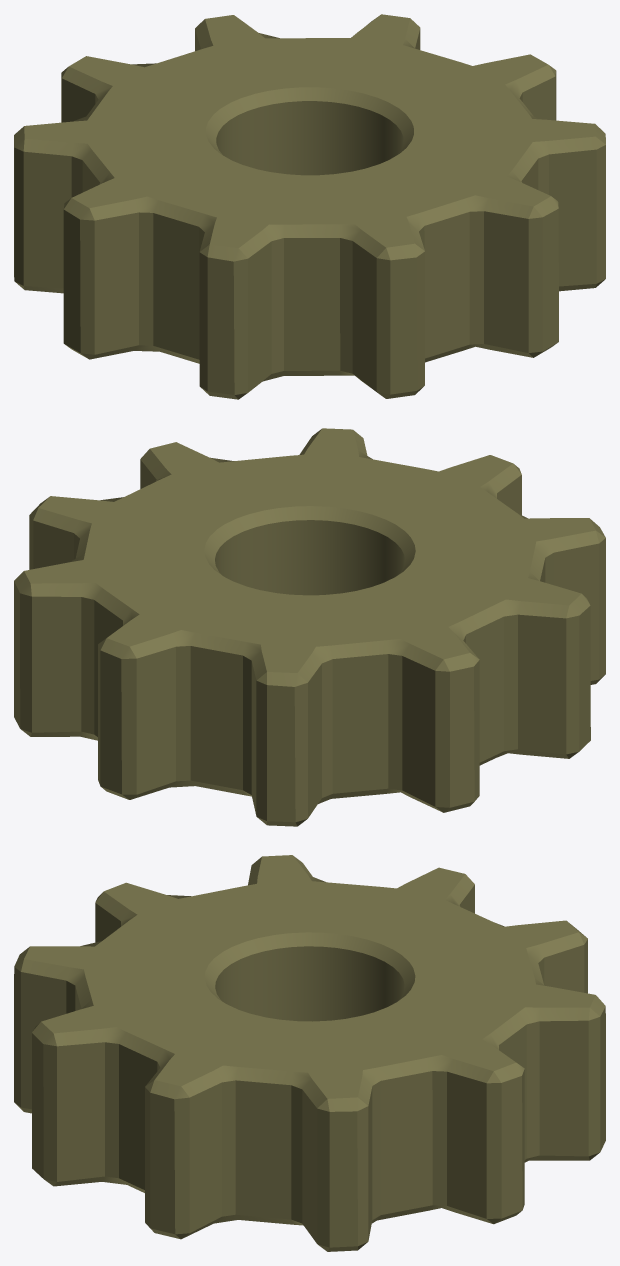
The model's file is Cogs.fbx.
The picture shows the model from 3 angles, top to bottom: view 1: azimuth 30°, elevation 25°; view 2: azimuth 150°, elevation 25°; view 3: azimuth 270°, elevation 25°; orthographic projection.
Parts seen in each view (by area): view 1: Cog; view 2: Cog; view 3: Cog.
Boxes of the visible parts, x1,y1,x2,y2 form: Cog: [14, 14, 605, 399]; Cog: [14, 428, 605, 826]; Cog: [14, 855, 605, 1251].
Bounding box in the file's own units: 13.03 × 3.68 × 12.91.
